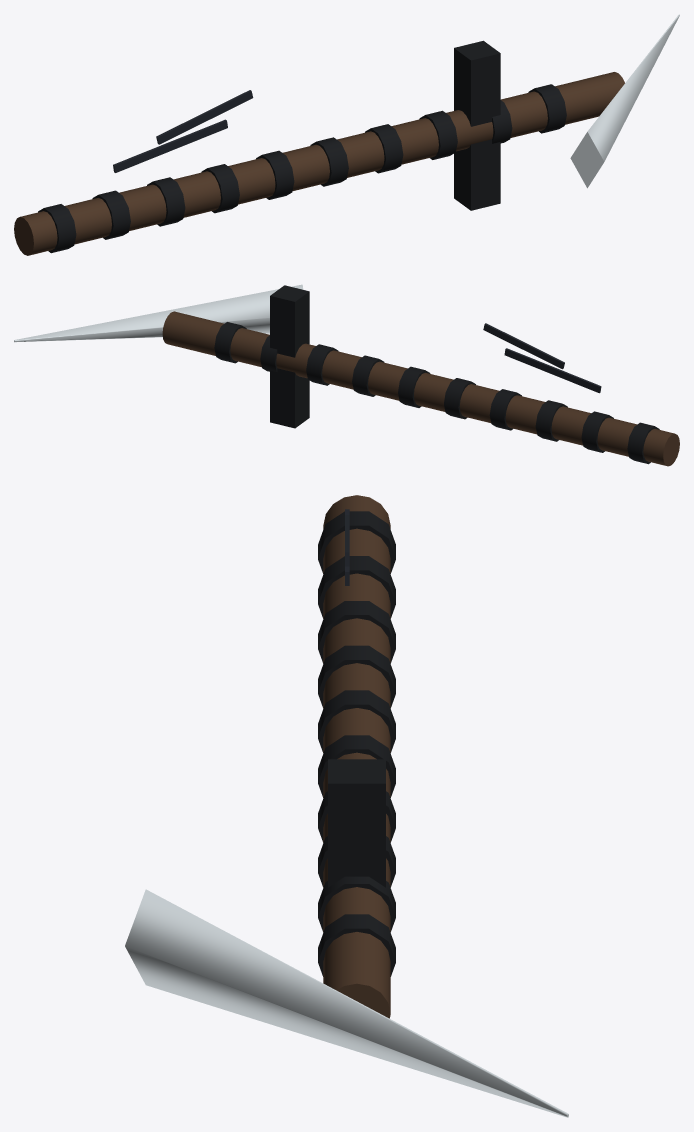
File: fantasy-lab-banner-spear-v1.glb
The picture shows the model from 3 angles, top to bottom: view 1: azimuth 30°, elevation 25°; view 2: azimuth 150°, elevation 25°; view 3: azimuth 270°, elevation 25°; orthographic projection. The views are drawn at different scales.
Visible parts, largest first — view 1: Banner Spear; view 2: Banner Spear; view 3: Banner Spear.
Boxes of the visible parts, bbox=[...] form: Banner Spear: bbox=[14, 14, 679, 255]; Banner Spear: bbox=[14, 284, 679, 466]; Banner Spear: bbox=[125, 495, 568, 1117].
Bounding box in the file's own units: 2.9 × 0.6506 × 0.9224.
